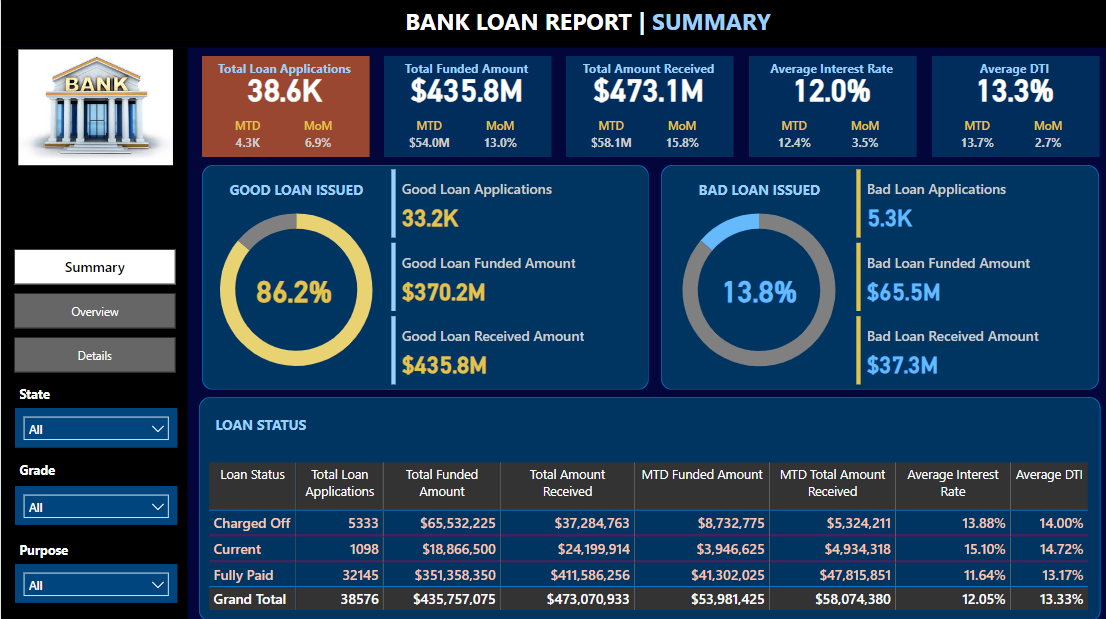

What the dashboard file says about the page in this screenshot:
{"tool":"powerbi","page":{"name":"Summary","canvas":[1280,720],"ordinal":0},"visuals":[{"type":"shape","box":[0,55.6,216.5,664.4],"z":0},{"type":"shape","box":[232.5,64.8,194.5,116.9],"z":0,"group":"g1"},{"type":"shape","box":[443.5,64.8,194.5,116.9],"z":0,"group":"g2"},{"type":"shape","box":[654.5,64.8,194.5,116.9],"z":0,"group":"g3"},{"type":"shape","box":[865.4,64.8,194.5,116.9],"z":0,"group":"g4"},{"type":"shape","box":[1077.3,64.8,194.5,116.9],"z":0,"group":"g5"},{"type":"card","fields":{"Values":["Measure Table.Total Loan Applications"]},"box":[235.9,78.7,184.1,45.1],"z":1000,"group":"g1"},{"type":"card","fields":{"Values":["Measure Table.Total Funded Amount"]},"box":[446.9,78.7,184.1,45.1],"z":1000,"group":"g2"},{"type":"card","fields":{"Values":["Measure Table.Total Amount Received"]},"box":[657.9,78.7,184.1,45.1],"z":1000,"group":"g3"},{"type":"card","fields":{"Values":["Measure Table.Average Interest Rate"]},"box":[868.8,78.7,184.1,45.1],"z":1000,"group":"g4"},{"type":"card","fields":{"Values":["Measure Table.Average DTI"]},"box":[1080.7,78.7,184.1,45.1],"z":1000,"group":"g5"},{"type":"shape","box":[228.8,459.6,1043.8,260],"z":1000},{"type":"textbox","box":[229,64.8,197.9,32.4],"z":2000,"group":"g1"},{"type":"textbox","box":[440,64.8,197.9,32.4],"z":2000,"group":"g2"},{"type":"textbox","box":[651,64.8,197.9,32.4],"z":2000,"group":"g3"},{"type":"textbox","box":[861.9,64.8,197.9,32.4],"z":2000,"group":"g4"},{"type":"textbox","box":[1073.8,64.8,197.9,32.4],"z":2000,"group":"g5"},{"type":"shape","box":[232.3,191,517.4,260.5],"z":2000},{"type":"shape","box":[0,0,1280,55],"z":3000},{"type":"card","title":"MTD","fields":{"Values":["Measure Table.MTD Loan Applications"]},"box":[260.3,136.6,49.8,45.1],"z":3000,"group":"g1"},{"type":"card","title":"MTD","fields":{"Values":["Measure Table.MTD Funded Amount"]},"box":[464.5,136.8,62.5,45.6],"z":3000,"group":"g2"},{"type":"card","title":"MTD","fields":{"Values":["Measure Table.MTD Total Amount Received"]},"box":[675.5,136.8,62.5,45.6],"z":3000,"group":"g3"},{"type":"card","title":"MTD","fields":{"Values":["Measure Table.MTD Average Interest Rate"]},"box":[886.4,136.8,62.5,45.6],"z":3000,"group":"g4"},{"type":"card","title":"MTD","fields":{"Values":["Measure Table.MTD Average DTI"]},"box":[1098.3,136.8,62.5,45.6],"z":3000,"group":"g5"},{"type":"card","title":"MoM","fields":{"Values":["Measure Table.MoM Loan Application"]},"box":[341,136.8,50.8,44.3],"z":4000,"group":"g1"},{"type":"card","title":"MoM","fields":{"Values":["Measure Table.MoM Total Funded Amount"]},"box":[552,136.8,50.8,44.3],"z":4000,"group":"g2"},{"type":"card","title":"MoM","fields":{"Values":["Measure Table.MoM Total Amount Received"]},"box":[763,136.8,50.8,44.3],"z":4000,"group":"g3"},{"type":"card","title":"MoM","fields":{"Values":["Measure Table.MoM Average Interest Rate"]},"box":[973.9,136.8,50.8,44.3],"z":4000,"group":"g4"},{"type":"card","title":"MoM","fields":{"Values":["Measure Table.MoM Average DTI"]},"box":[1185.8,136.8,50.8,44.3],"z":4000,"group":"g5"},{"type":"textbox","box":[242.8,203.7,197.5,32.5],"z":4000},{"type":"textbox","box":[462.7,1.3,447.2,50.1],"z":5000},{"type":"group","id":"g1","title":"Total Loan Applications Card","box":[229,64.8,197.9,115.9],"z":6000},{"type":"group","id":"g2","title":"Total Funded Amount","box":[440,64.8,197.9,117.6],"z":7000},{"type":"group","id":"g3","title":"Total Amount Received","box":[651,64.8,197.9,117.2],"z":8000},{"type":"group","id":"g4","title":"Average Interest Rate","box":[861.9,64.8,198.8,117.4],"z":9000},{"type":"group","id":"g5","title":"DTI","box":[1073.8,64.8,198.8,117.4],"z":10000},{"type":"shape","box":[763.6,191,507,260.5],"z":11000},{"type":"donutChart","fields":{"Category":["bank_loan_data.Good Loan vs Bad Loan"],"Y":["Measure Table.Total Loan Applications"]},"box":[216,219.9,250.5,230.8],"z":12000},{"type":"card","fields":{"Values":["Measure Table.Good Loan %"]},"box":[266.2,311.4,145.9,46.3],"z":13000},{"type":"cardVisual","fields":{"Data":["Summary Measure Table.Good Loan Applications","Summary Measure Table.Good Loan Funded Amount","Summary Measure Table.Good Loan Received Amount"]},"box":[446.8,191.2,285.5,259.6],"z":14000},{"type":"donutChart","fields":{"Category":["bank_loan_data.Good Loan vs Bad Loan"],"Y":["Measure Table.Total Loan Applications"]},"box":[752.8,219.9,250,231.2],"z":15000},{"type":"card","fields":{"Values":["Summary Measure Table.Bad Loan %"]},"box":[804,311.2,146.2,47.5],"z":16000},{"type":"textbox","box":[779,203.7,197.5,32.5],"z":17000},{"type":"cardVisual","fields":{"Data":["Summary Measure Table.Bad Loan Applications","Summary Measure Table.Bad Loan Funded Amount","Summary Measure Table.Bad Loan Received Amount"]},"box":[985.3,191.2,286.2,260],"z":18000},{"type":"tableEx","fields":{"Values":["bank_loan_data.loan_status","Summary Measure Table.Total Loan Applications","Summary Measure Table.Total Funded Amount","Summary Measure Table.Total Amount Received","Summary Measure Table.MTD Funded Amount","Summary Measure Table.MTD Total Amount Received","Summary Measure Table.Average Interest Rate","Summary Measure Table.Average DTI"]},"box":[234.7,529.7,1030.2,189.8],"z":19000},{"type":"textbox","box":[242.8,475.3,196.8,32.4],"z":20000},{"type":"slicer","fields":{"Values":["bank_loan_data.address_state"]},"box":[15.6,471.8,187.5,46.3],"z":21000},{"type":"textbox","box":[15.6,440.6,57.9,31.3],"z":22000},{"type":"slicer","fields":{"Values":["bank_loan_data.grade"]},"box":[15.6,562.1,187.5,45.1],"z":23000},{"type":"slicer","fields":{"Values":["bank_loan_data.purpose"]},"box":[15.6,652.4,187.5,45.1],"z":24000},{"type":"textbox","box":[15.6,528.5,66,31.3],"z":25000},{"type":"textbox","box":[15.6,621.1,81,31.3],"z":26000},{"type":"pageNavigator","box":[14.9,288.3,187.5,145.8],"z":27000},{"type":"image","box":[15.6,9.1,188.8,229.2],"z":28000}]}

Visuals, with their boxes in screenshot pixels (x1, y1, x2, y2), scaled from the page's 1280x720 canvas onto the 1106x619 screenshot:
shape: (0,48,187,618)
shape: (201,56,369,156)
shape: (383,56,551,156)
shape: (566,56,734,156)
shape: (748,56,916,156)
shape: (931,56,1099,156)
card - Measure Table.Total Loan Applications: (204,68,363,106)
card - Measure Table.Total Funded Amount: (386,68,545,106)
card - Measure Table.Total Amount Received: (568,68,728,106)
card - Measure Table.Average Interest Rate: (751,68,910,106)
card - Measure Table.Average DTI: (934,68,1093,106)
shape: (198,395,1100,618)
textbox: (198,56,369,84)
textbox: (380,56,551,84)
textbox: (563,56,734,84)
textbox: (745,56,916,84)
textbox: (928,56,1099,84)
shape: (201,164,648,388)
shape: (0,0,1105,47)
"MTD" card: (225,117,268,156)
"MTD" card: (401,118,455,157)
"MTD" card: (584,118,638,157)
"MTD" card: (766,118,820,157)
"MTD" card: (949,118,1003,157)
"MoM" card: (295,118,339,156)
"MoM" card: (477,118,521,156)
"MoM" card: (659,118,703,156)
"MoM" card: (842,118,885,156)
"MoM" card: (1025,118,1068,156)
textbox: (210,175,380,203)
textbox: (400,1,786,44)
"Total Loan Applications Card" group: (198,56,369,155)
"Total Funded Amount" group: (380,56,551,157)
"Total Amount Received" group: (563,56,734,156)
"Average Interest Rate" group: (745,56,917,157)
"DTI" group: (928,56,1100,157)
shape: (660,164,1098,388)
donutChart - bank_loan_data.Good Loan vs Bad Loan x Measure Table.Total Loan Applications: (187,189,403,387)
card - Measure Table.Good Loan %: (230,268,356,308)
cardVisual - Summary Measure Table.Good Loan Applications x Summary Measure Table.Good Loan Funded Amount: (386,164,633,388)
donutChart - bank_loan_data.Good Loan vs Bad Loan x Measure Table.Total Loan Applications: (650,189,866,388)
card - Summary Measure Table.Bad Loan %: (695,268,821,308)
textbox: (673,175,844,203)
cardVisual - Summary Measure Table.Bad Loan Applications x Summary Measure Table.Bad Loan Funded Amount: (851,164,1099,388)
tableEx - bank_loan_data.loan_status x Summary Measure Table.Total Loan Applications: (203,455,1093,618)
textbox: (210,409,380,436)
slicer - bank_loan_data.address_state: (13,406,175,445)
textbox: (13,379,64,406)
slicer - bank_loan_data.grade: (13,483,175,522)
slicer - bank_loan_data.purpose: (13,561,175,600)
textbox: (13,454,71,481)
textbox: (13,534,83,561)
pageNavigator: (13,248,175,373)
image: (13,8,177,205)
